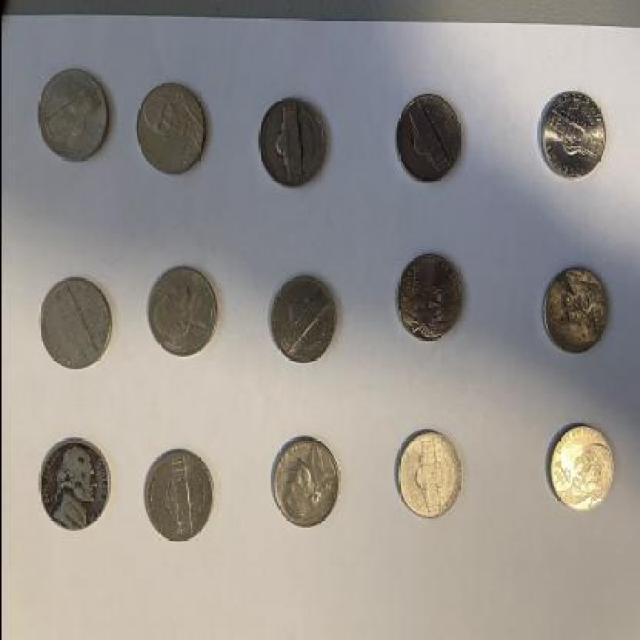Nickel: (35, 270, 117, 376), (34, 437, 117, 537), (250, 90, 328, 192), (268, 263, 342, 368), (266, 436, 343, 534), (133, 81, 210, 177), (34, 66, 111, 162), (390, 428, 468, 522), (534, 88, 608, 186), (142, 448, 216, 544), (144, 264, 218, 358), (540, 422, 614, 516), (390, 252, 464, 342), (391, 92, 462, 185), (537, 266, 608, 356)
